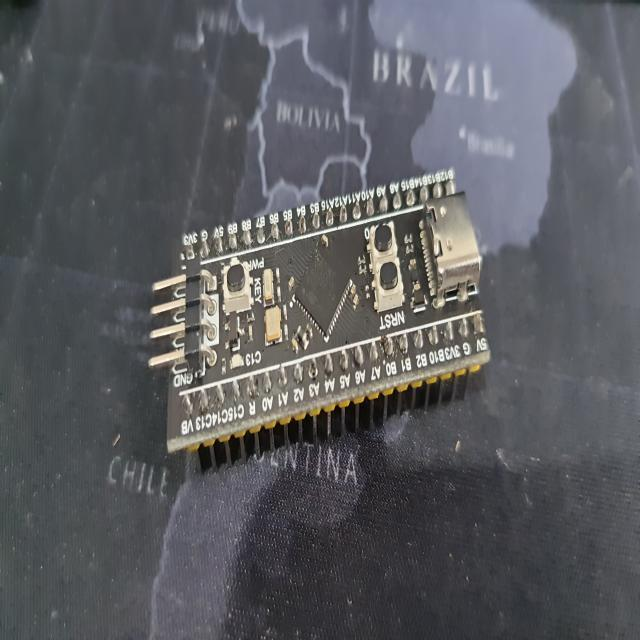STM32: (147, 163, 502, 486)
